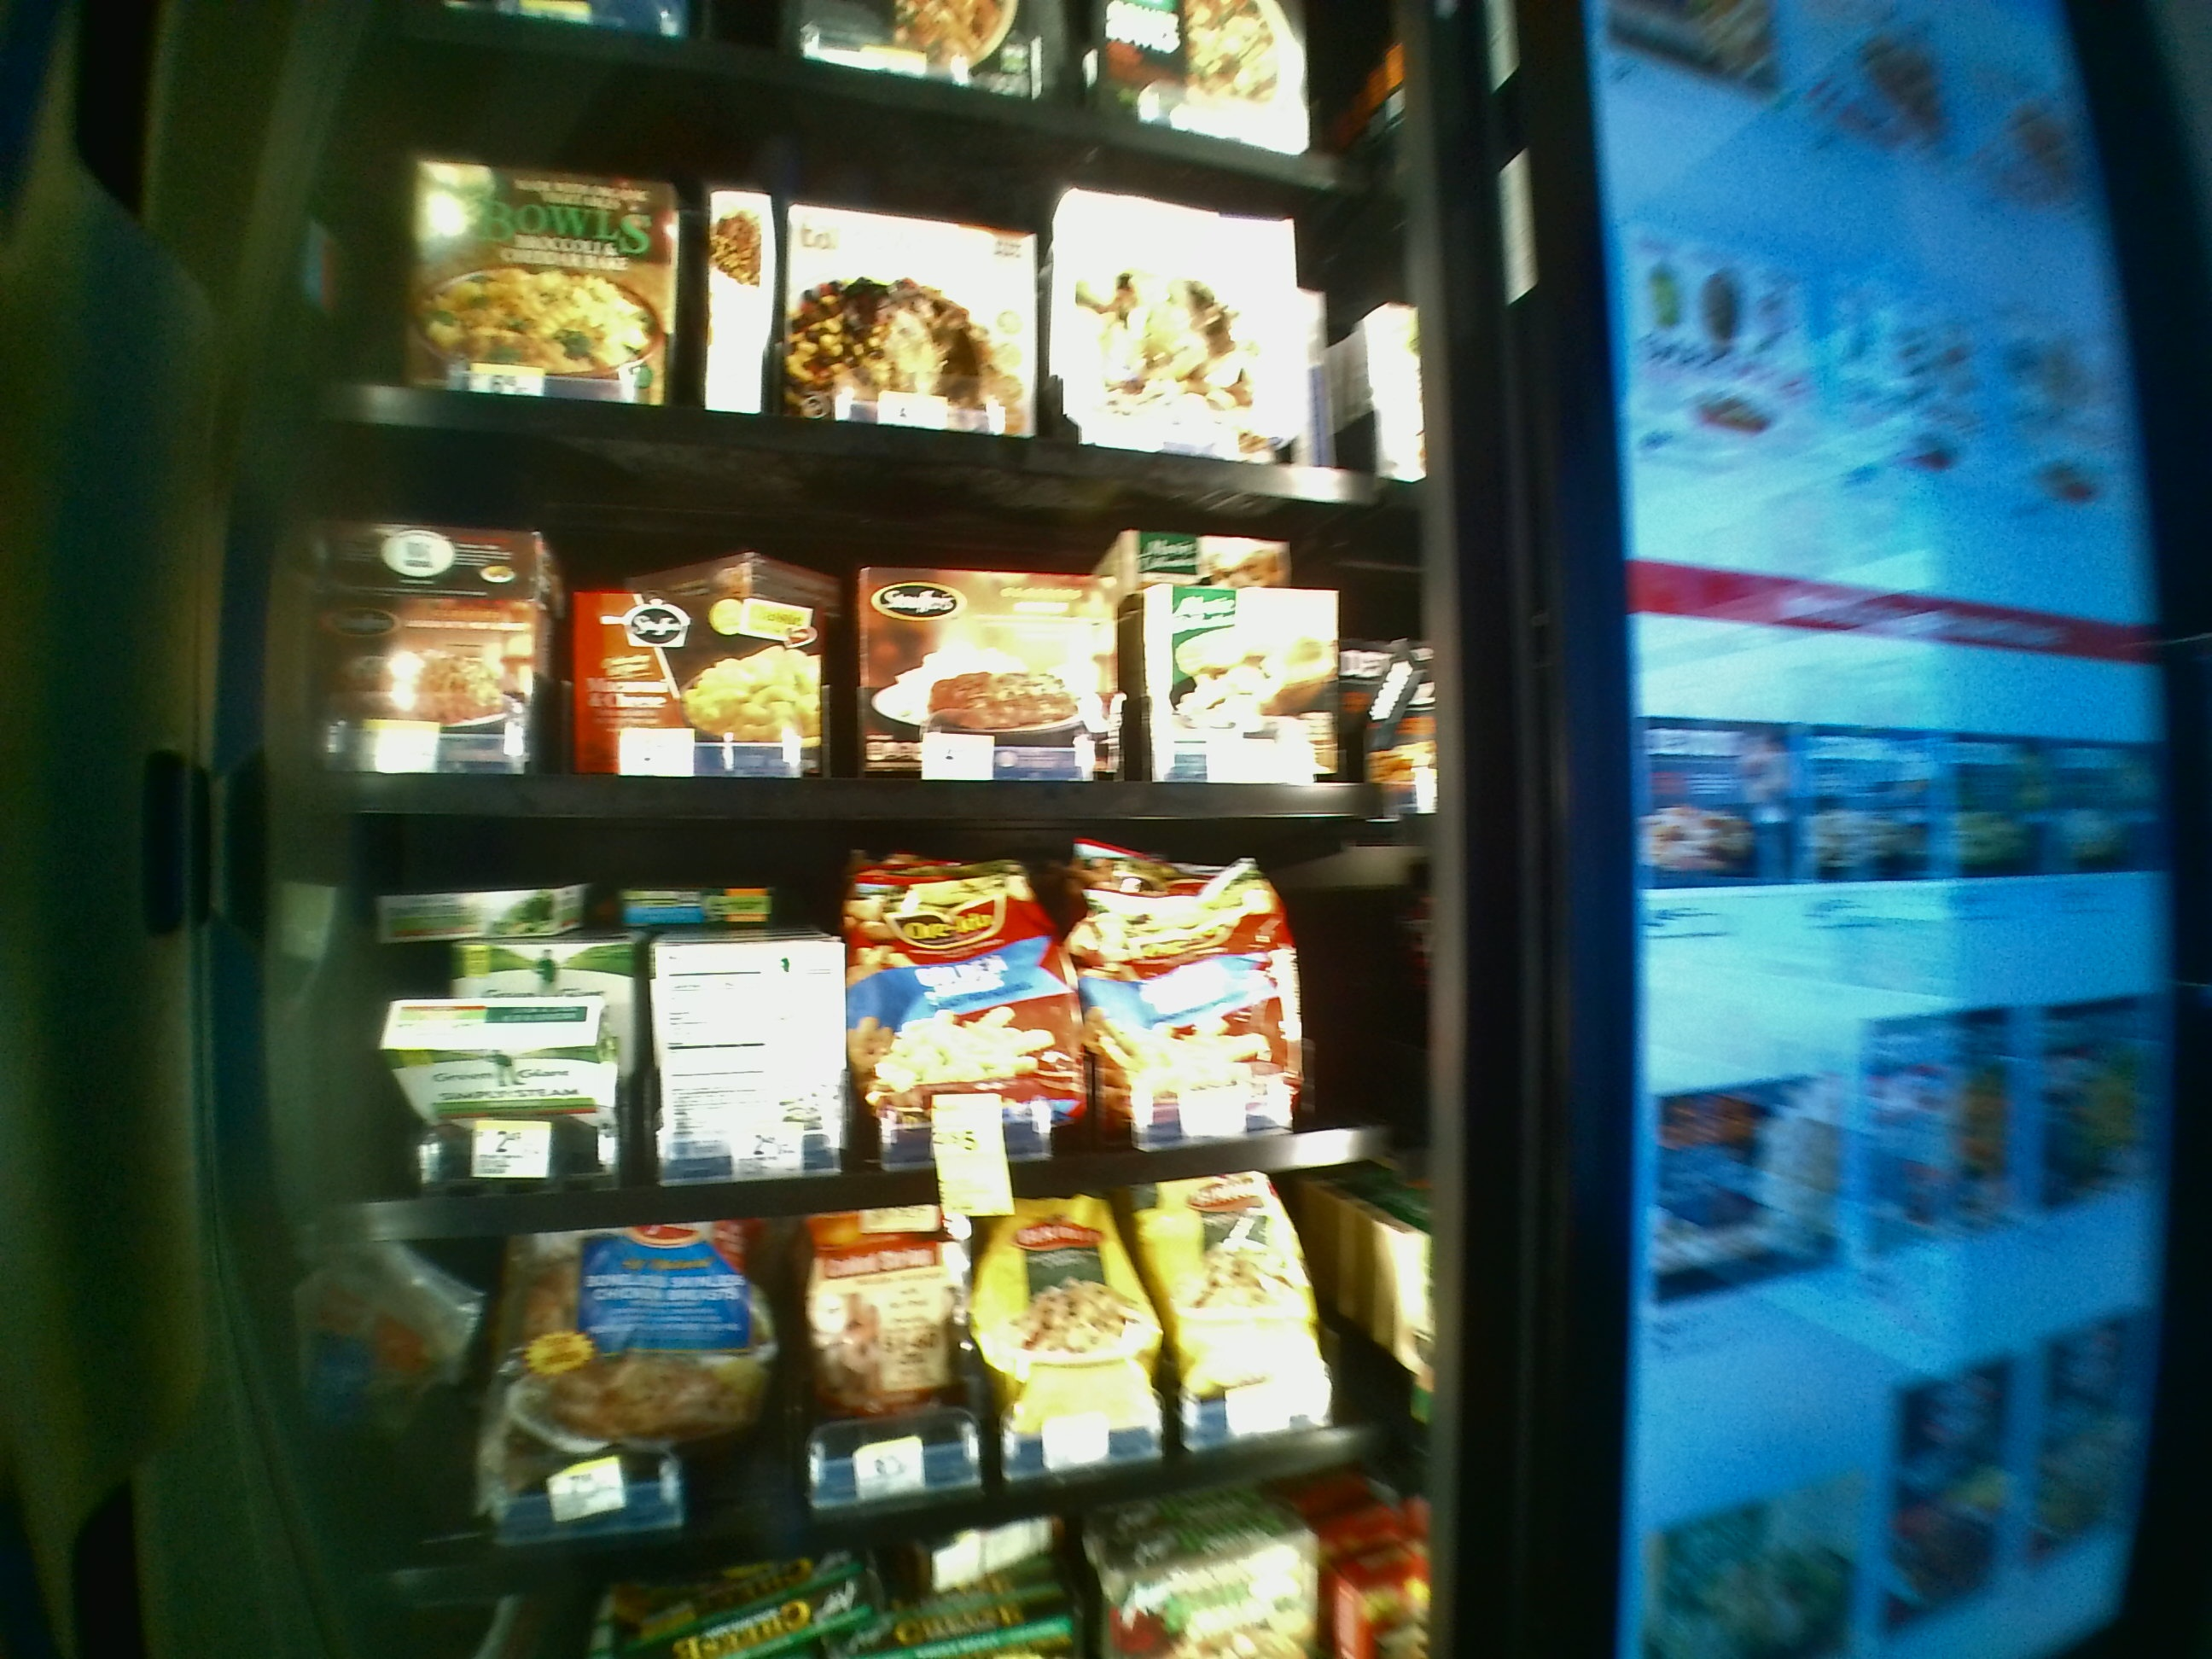shelf: (301, 831, 1421, 1263), (296, 436, 1413, 819)
